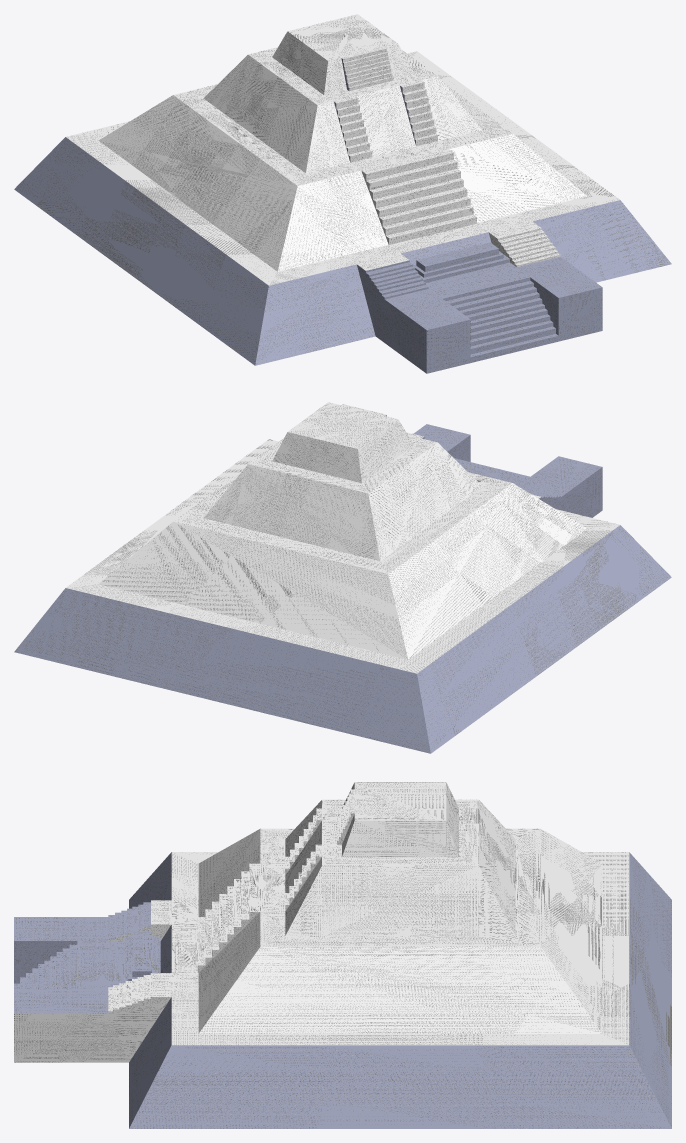
Rendered from Piramide del sol.fbx.
The picture shows the model from 3 angles, top to bottom: view 1: azimuth 30°, elevation 25°; view 2: azimuth 150°, elevation 25°; view 3: azimuth 270°, elevation 25°; orthographic projection. The views are drawn at different scales.
Parts seen in each view (by area): view 1: Model; view 2: Model; view 3: Model.
Part boxes in pixels (box(x1,y1,x2,y2)): Model: box(14, 14, 671, 373); Model: box(14, 402, 671, 753); Model: box(14, 782, 671, 1128).
Size of the model in its own units: 5.92 by 2.57 by 7.18.
